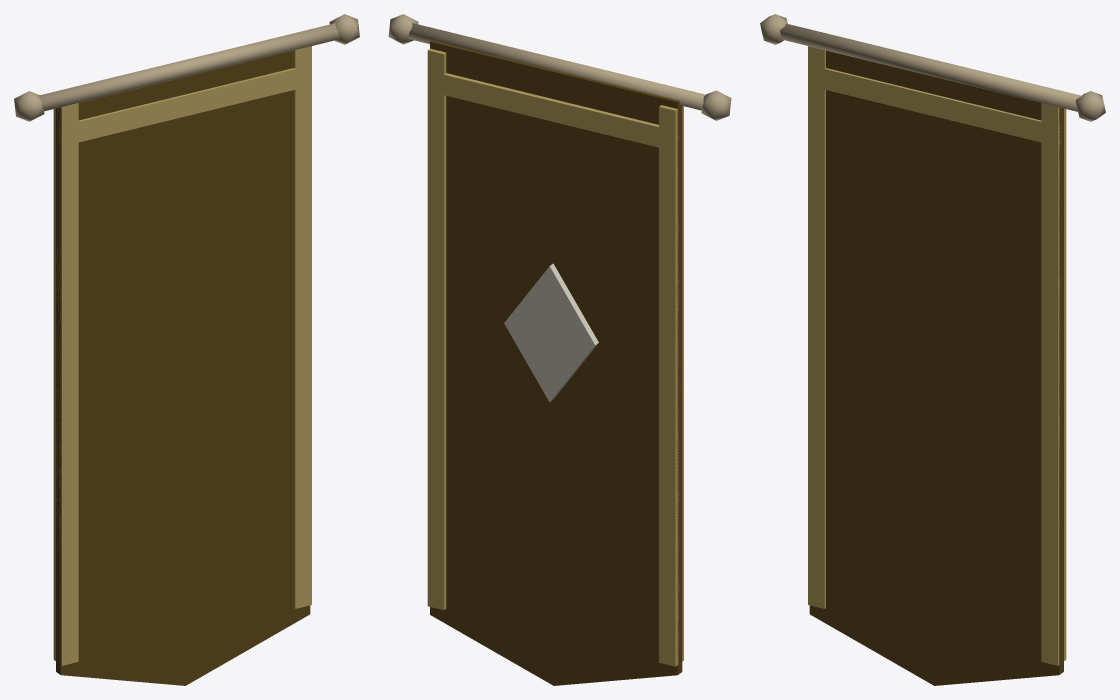
File: antlion_banner_v0.glb
The picture shows the model from 3 angles, left to right: view 1: azimuth 30°, elevation 25°; view 2: azimuth 150°, elevation 25°; view 3: azimuth 330°, elevation 25°; orthographic projection.
Visible parts, largest first — view 1: antlion_banner_v0; view 2: antlion_banner_v0; view 3: antlion_banner_v0.
Boxes of the visible parts, bbox=[...] form: antlion_banner_v0: bbox=[14, 14, 359, 685]; antlion_banner_v0: bbox=[388, 14, 731, 685]; antlion_banner_v0: bbox=[760, 14, 1105, 685].
Size of the model in its own units: 1.04 by 1.84 by 0.0933.
